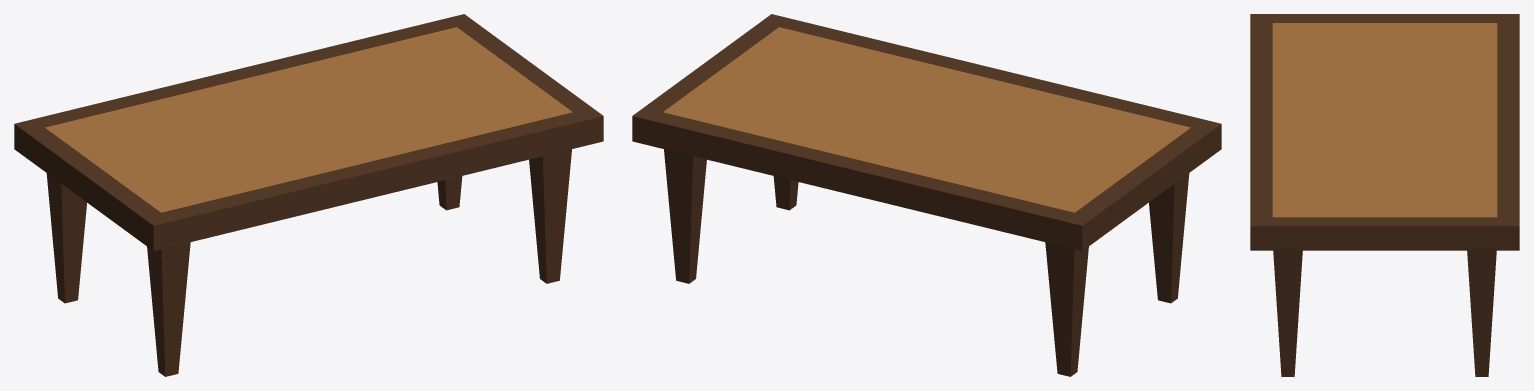
Rendered from rectangle_table.glb.
3 renders of one model, left to right at view 1: azimuth 30°, elevation 25°; view 2: azimuth 150°, elevation 25°; view 3: azimuth 270°, elevation 25°, orthographic. The views are drawn at different scales.
Visible parts, largest first — view 1: Rectangle_Table; view 2: Rectangle_Table; view 3: Rectangle_Table.
Boxes of the visible parts, bbox=[...] form: Rectangle_Table: bbox=[14, 14, 603, 376]; Rectangle_Table: bbox=[632, 14, 1221, 376]; Rectangle_Table: bbox=[1250, 14, 1519, 376].
Size of the model in its own units: 2.29 by 0.8245 by 1.23.
1 material, 1 textured.
